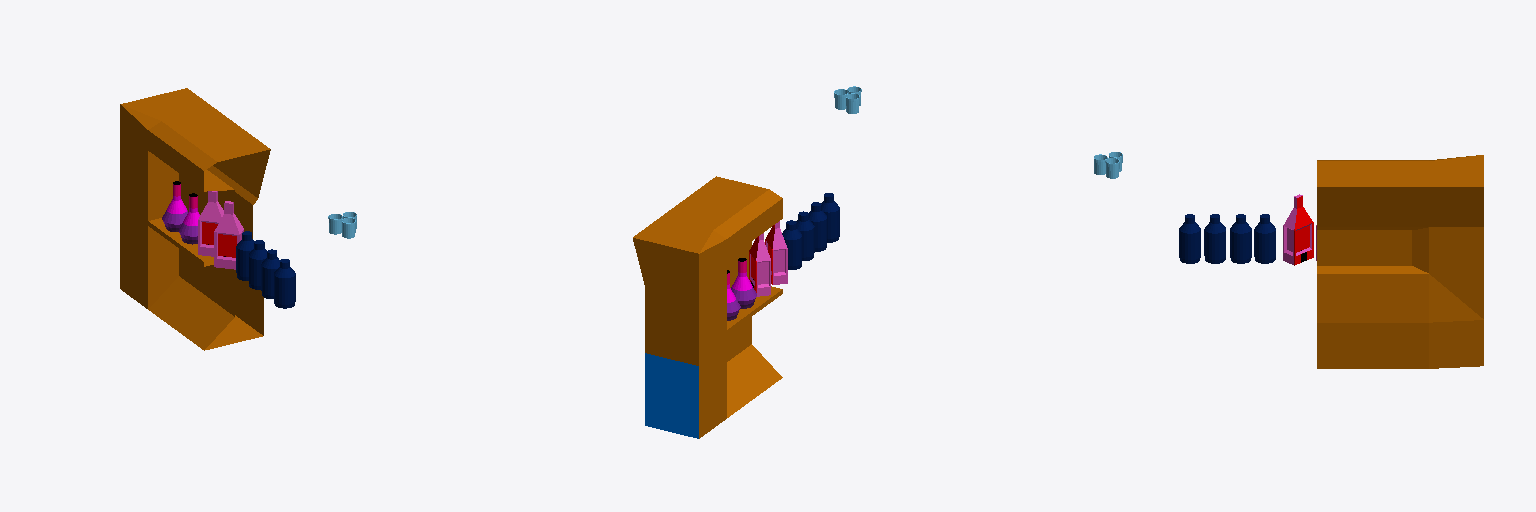
3 views of the same model, side by side, from view 1: azimuth 30°, elevation 25°; view 2: azimuth 150°, elevation 25°; view 3: azimuth 270°, elevation 25° (orthographic).
Parts seen in each view (by area): view 1: pCube1, pCube4, pCube3, pCylinder12, pCylinder1, pCylinder9, pCylinder11, pCylinder3, pCylinder10; view 2: pCube1, pCube3, pCube4, pCylinder9, pCylinder3, pCylinder12, pCylinder10, pCylinder11; view 3: pCube1, pCube4, pCylinder3, pCylinder10, pCylinder11, pCylinder12.
Part boxes in pixels (x1,y1,x2,y2): pCube1: (120,88,270,350); pCube4: (214,201,243,269); pCube3: (198,191,223,256); pCylinder12: (274,259,295,308); pCylinder1: (162,181,187,231); pCylinder9: (179,193,199,244); pCylinder11: (261,249,279,298); pCylinder3: (236,231,254,280); pCylinder10: (249,240,266,289); pCube1: (633,176,782,438); pCube3: (749,233,770,296); pCube4: (765,221,787,284); pCylinder9: (731,258,756,308); pCylinder3: (782,220,801,269); pCylinder12: (821,193,839,242); pCylinder10: (796,211,814,260); pCylinder11: (809,202,826,251); pCube1: (1317,155,1483,368); pCube4: (1283,194,1313,265); pCylinder3: (1254,214,1275,263); pCylinder10: (1230,214,1251,263); pCylinder11: (1204,214,1225,263); pCylinder12: (1179,214,1200,263).
Bounding box in the file's own units: 0.3766 × 1.08 × 2.
5 materials, 5 textured.